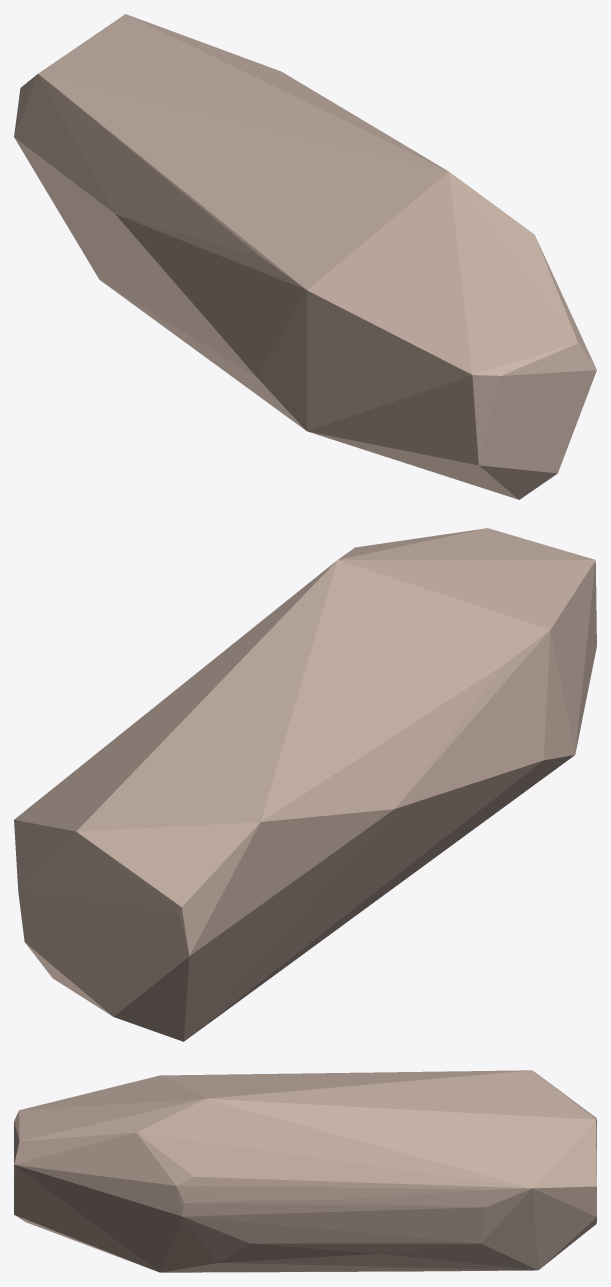
The model's file is bottle_laboratory_a03.glb.
3 renders of one model, top to bottom at view 1: azimuth 30°, elevation 25°; view 2: azimuth 150°, elevation 25°; view 3: azimuth 270°, elevation 25°, orthographic. The views are drawn at different scales.
Parts seen in each view (by area): view 1: geometry_0; view 2: geometry_0; view 3: geometry_0.
Boxes of the visible parts, x1=… form: geometry_0: x1=14, y1=14, x2=596, y2=499; geometry_0: x1=14, y1=528, x2=596, y2=1041; geometry_0: x1=14, y1=1070, x2=596, y2=1272.
Bounding box in the file's own units: 0.1773 × 0.1696 × 0.48.
